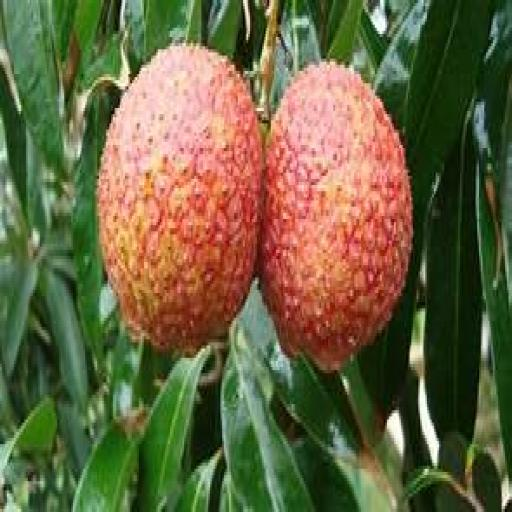lychee: (98, 47, 262, 351), (261, 65, 411, 370)
